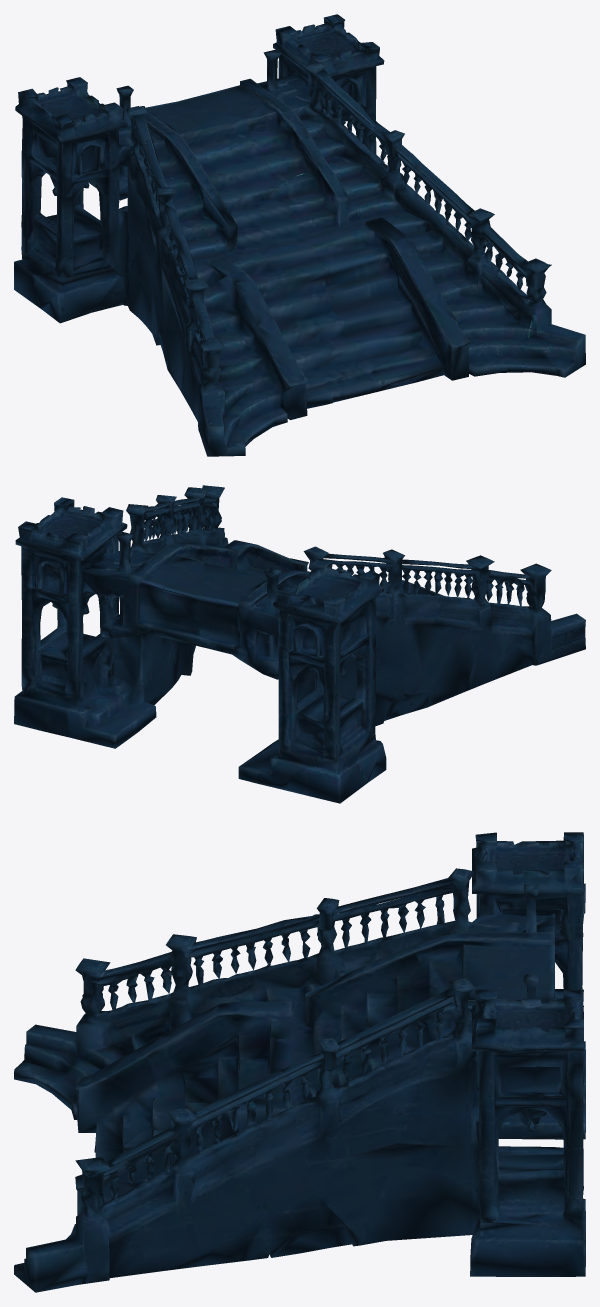
The model's file is causeway-stairs.glb.
3 renders of one model, top to bottom at view 1: azimuth 30°, elevation 25°; view 2: azimuth 150°, elevation 25°; view 3: azimuth 270°, elevation 25°, orthographic. The views are drawn at different scales.
Bounding box in the file's own units: 1.82 × 0.9183 × 1.9.
1 material, 1 textured.
